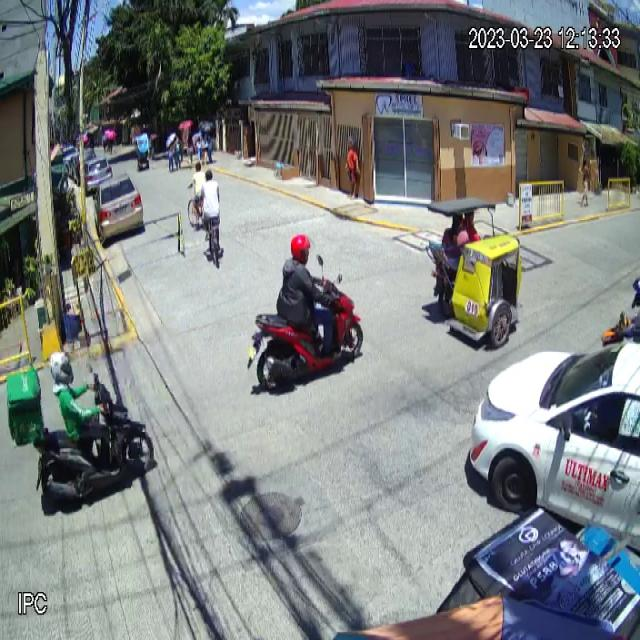Car: (467, 350, 640, 552)
Motorcycle: (7, 361, 155, 510), (248, 254, 364, 396)
Tricycle: (425, 197, 523, 347)
